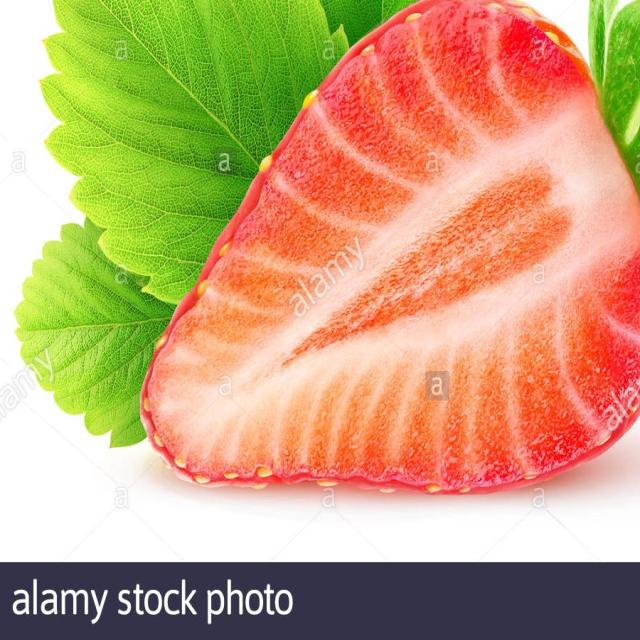strawberry: (142, 0, 640, 504)
